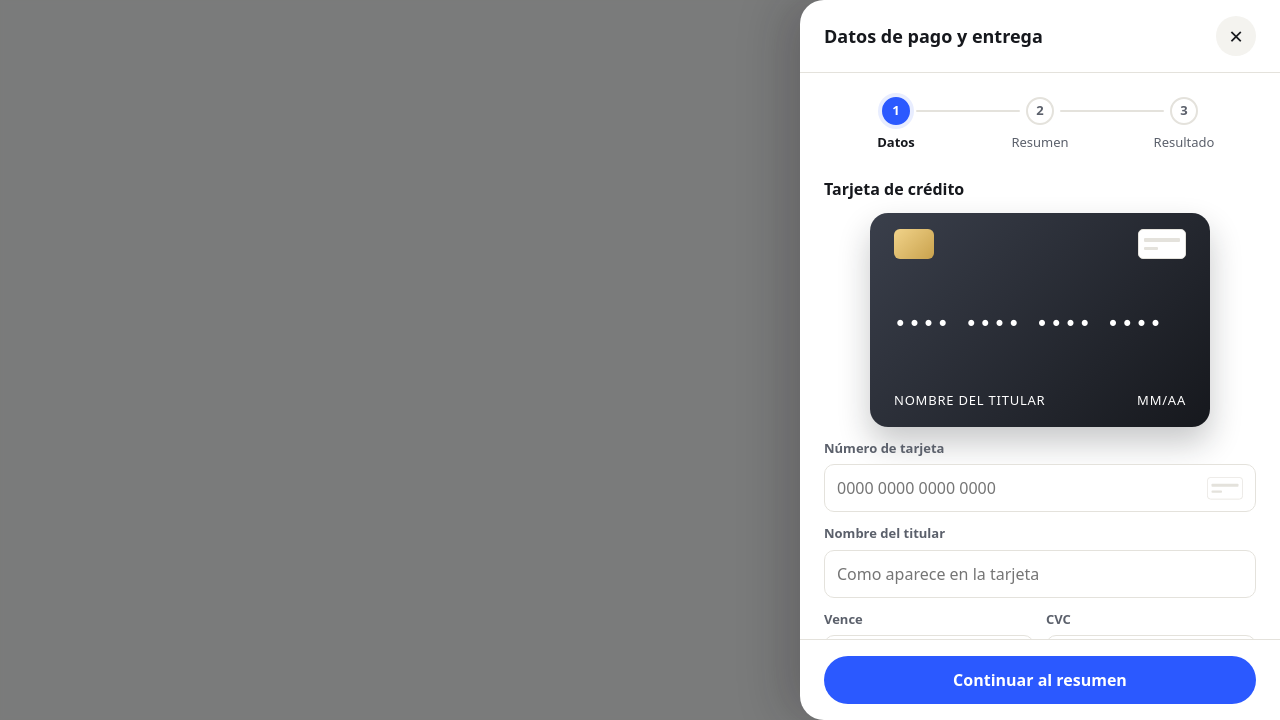
Test: CheckoutModal › marks every invalid field when submitting an empty form
The image size is (1280, 720).
Click the button "Continuar al resumen".
click(1040, 680)  # box 824,656 -> 1256,704
(page scrolled)
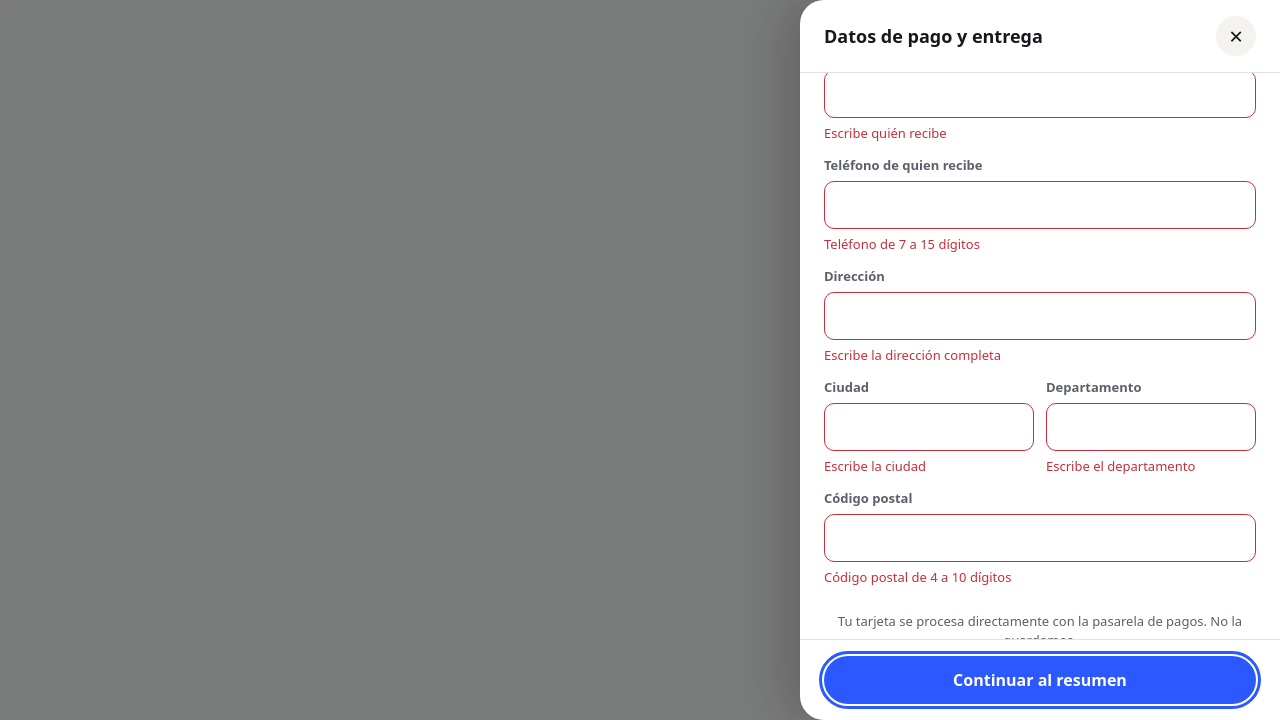
Check: the text "Escribe la dirección completa" is shown, box 824,346 -> 1001,364
